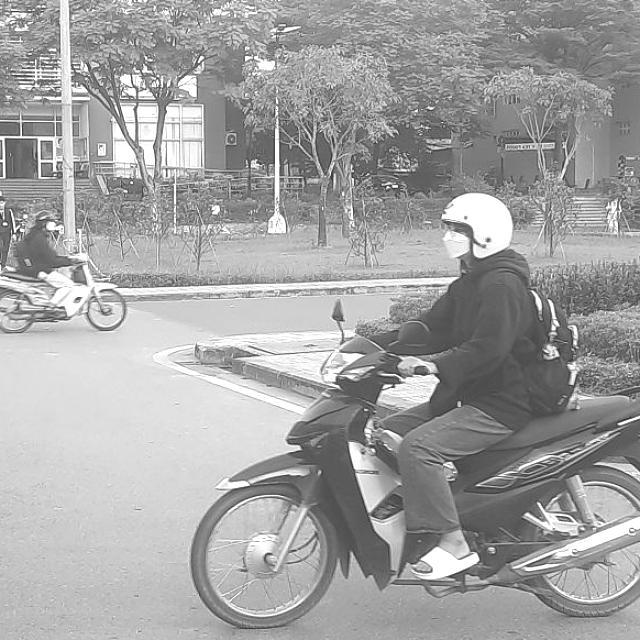Helmet: (440, 192, 512, 266)
